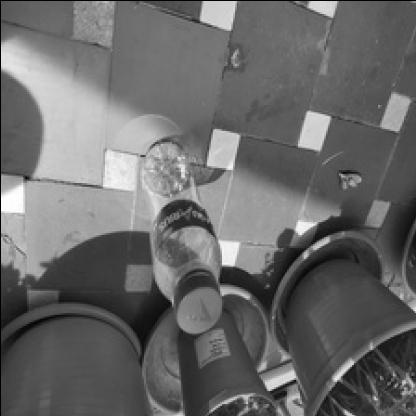plastic_bottles: (141, 130, 224, 332)
